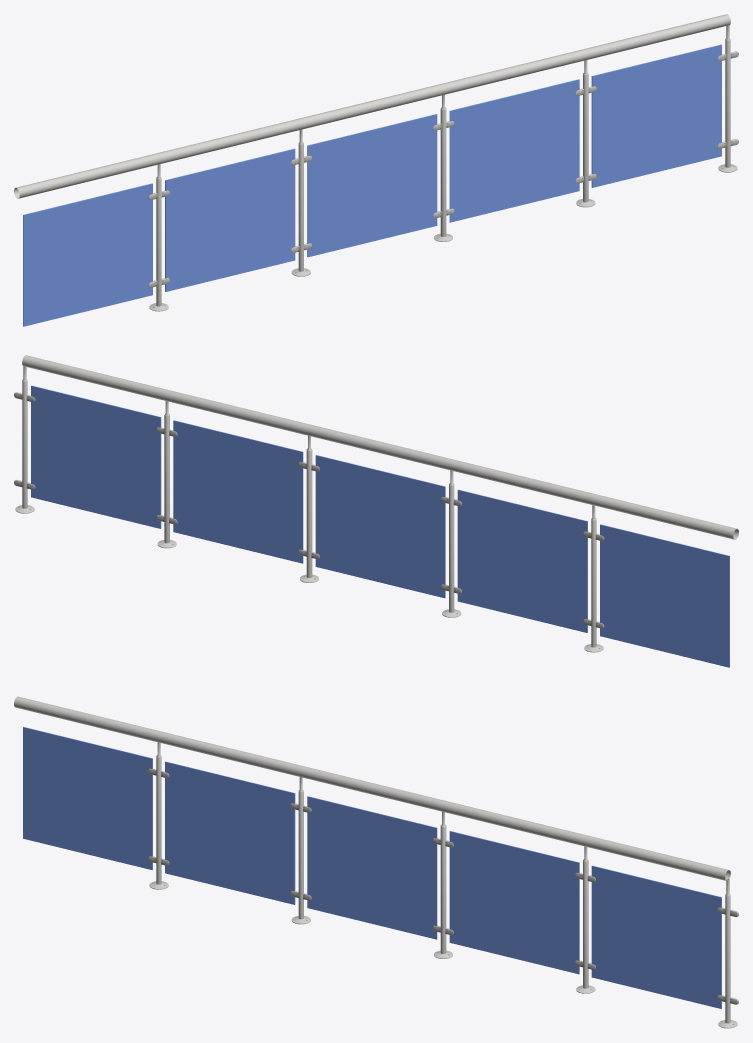
File: Barrier01_6.FBX
The picture shows the model from 3 angles, top to bottom: view 1: azimuth 30°, elevation 25°; view 2: azimuth 150°, elevation 25°; view 3: azimuth 330°, elevation 25°; orthographic projection.
Parts seen in each view (by area): view 1: Glass, Metal; view 2: Glass, Metal; view 3: Glass, Metal.
Boxes of the visible parts, <box> form: Glass: <box>23,44,721,326</box>; Metal: <box>14,14,738,311</box>; Glass: <box>31,385,729,667</box>; Metal: <box>14,355,738,652</box>; Glass: <box>23,727,721,1008</box>; Metal: <box>14,696,738,1028</box>.
Size of the model in its own units: 507 by 103 by 11.66.
